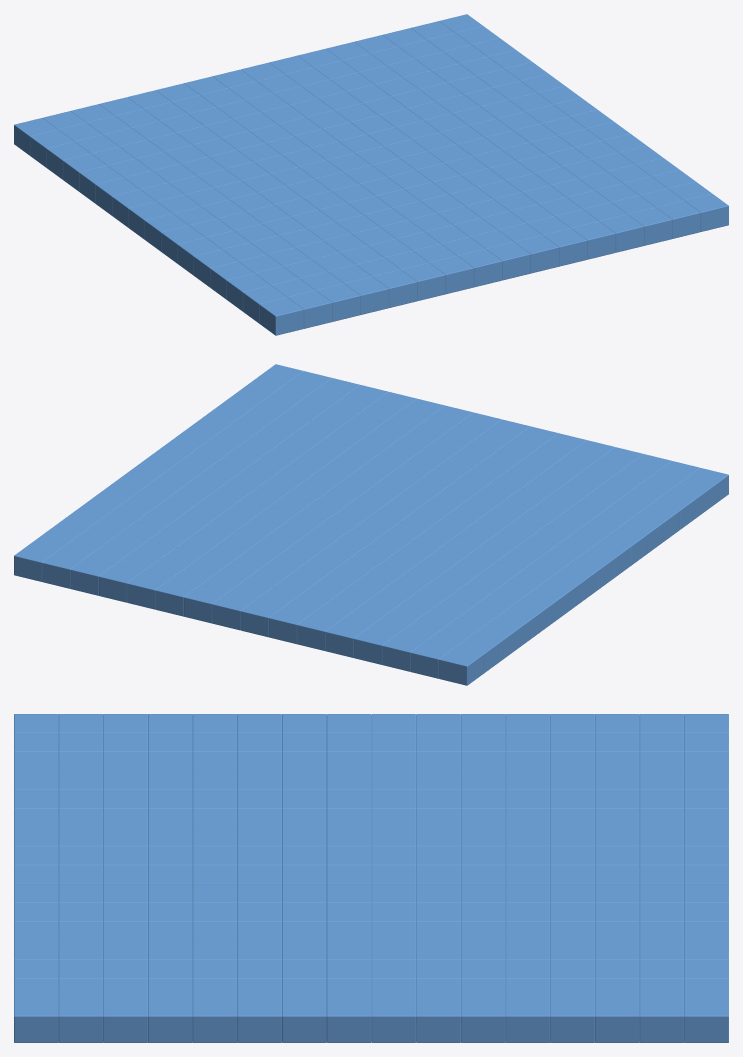
Rendered from Sol.fbx.
The picture shows the model from 3 angles, top to bottom: view 1: azimuth 30°, elevation 25°; view 2: azimuth 150°, elevation 25°; view 3: azimuth 270°, elevation 25°; orthographic projection. The views are drawn at different scales.
Parts seen in each view (by area): view 1: Sol; view 2: Sol; view 3: Sol.
Boxes of the visible parts, bbox=[...] form: Sol: bbox=[14, 14, 728, 335]; Sol: bbox=[14, 364, 728, 685]; Sol: bbox=[14, 714, 728, 1042].
Bounding box in the file's own units: 19800 × 825 × 19800.
